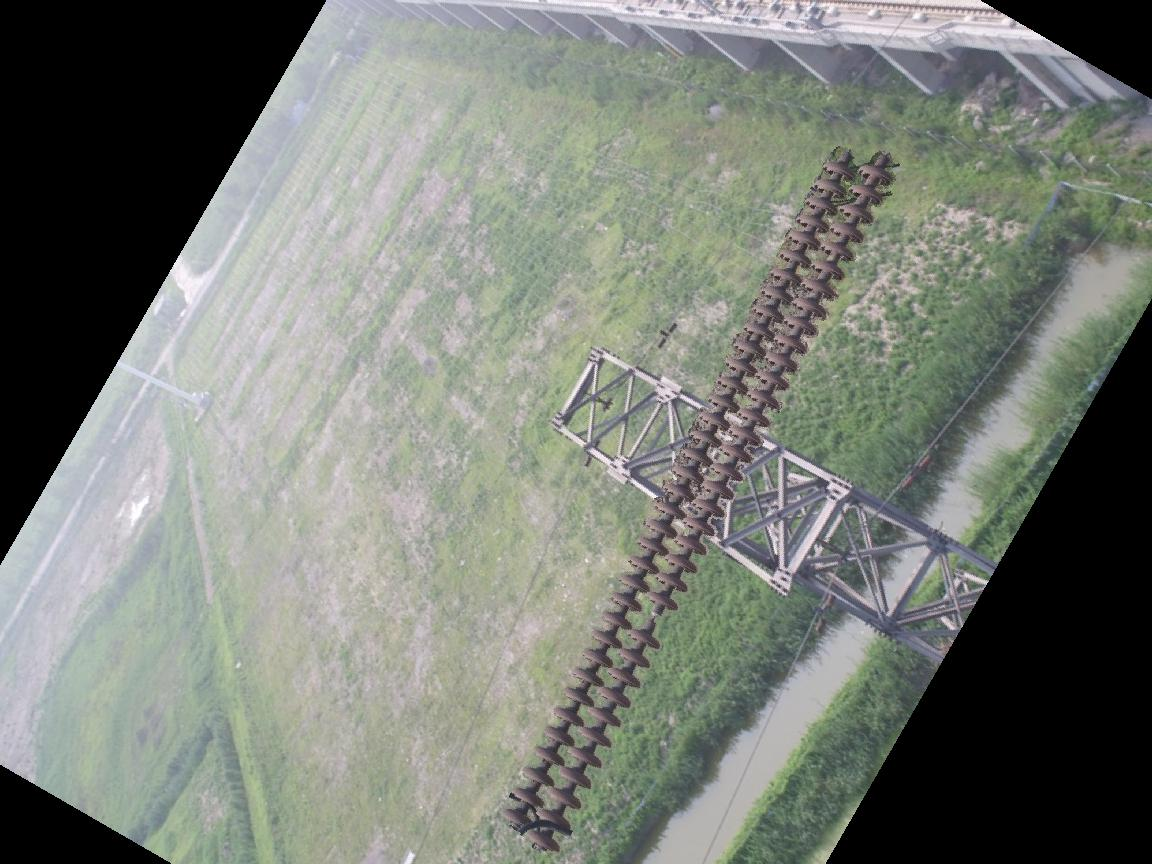insulator: (490, 146, 900, 856)
insulator_stringdrop: (627, 584, 679, 652)
